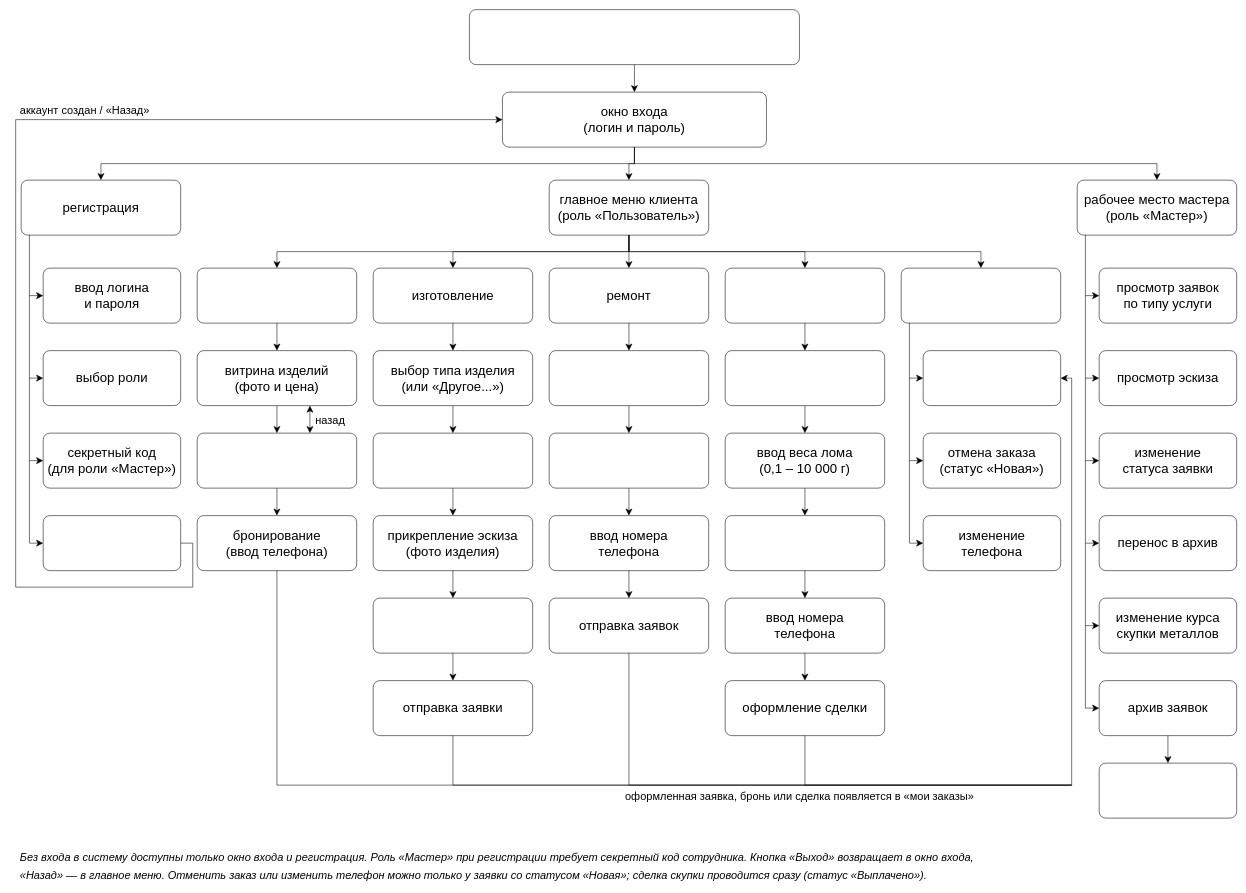
Some shapes in this 1246 by 893 pixel diagram are drawn without their labels. The shapes that lost their labels are listed below. From the top down, each one's centre as x and y in pixels, then its label:
At [634,37]: "запуск приложения".
At [277,295]: "каталог изделий".
At [805,295]: "скупка лома".
At [981,295]: "мои заказы".
At [629,378]: "просмотр прайс-листа (цена и срок)".
At [805,378]: "выбор металла (курс за грамм)".
At [992,378]: "таблица заказов со статусами".
At [277,460]: "карточка изделия (описание, цена)".
At [453,460]: "выбор металла и камня".
At [629,460]: "выбор одной или нескольких услуг".
At [112,543]: "сохранение аккаунта".
At [805,543]: "сумма к выплате".
At [453,625]: "ввод телефона и пожеланий".
At [1168,790]: "восстановление из архива".
